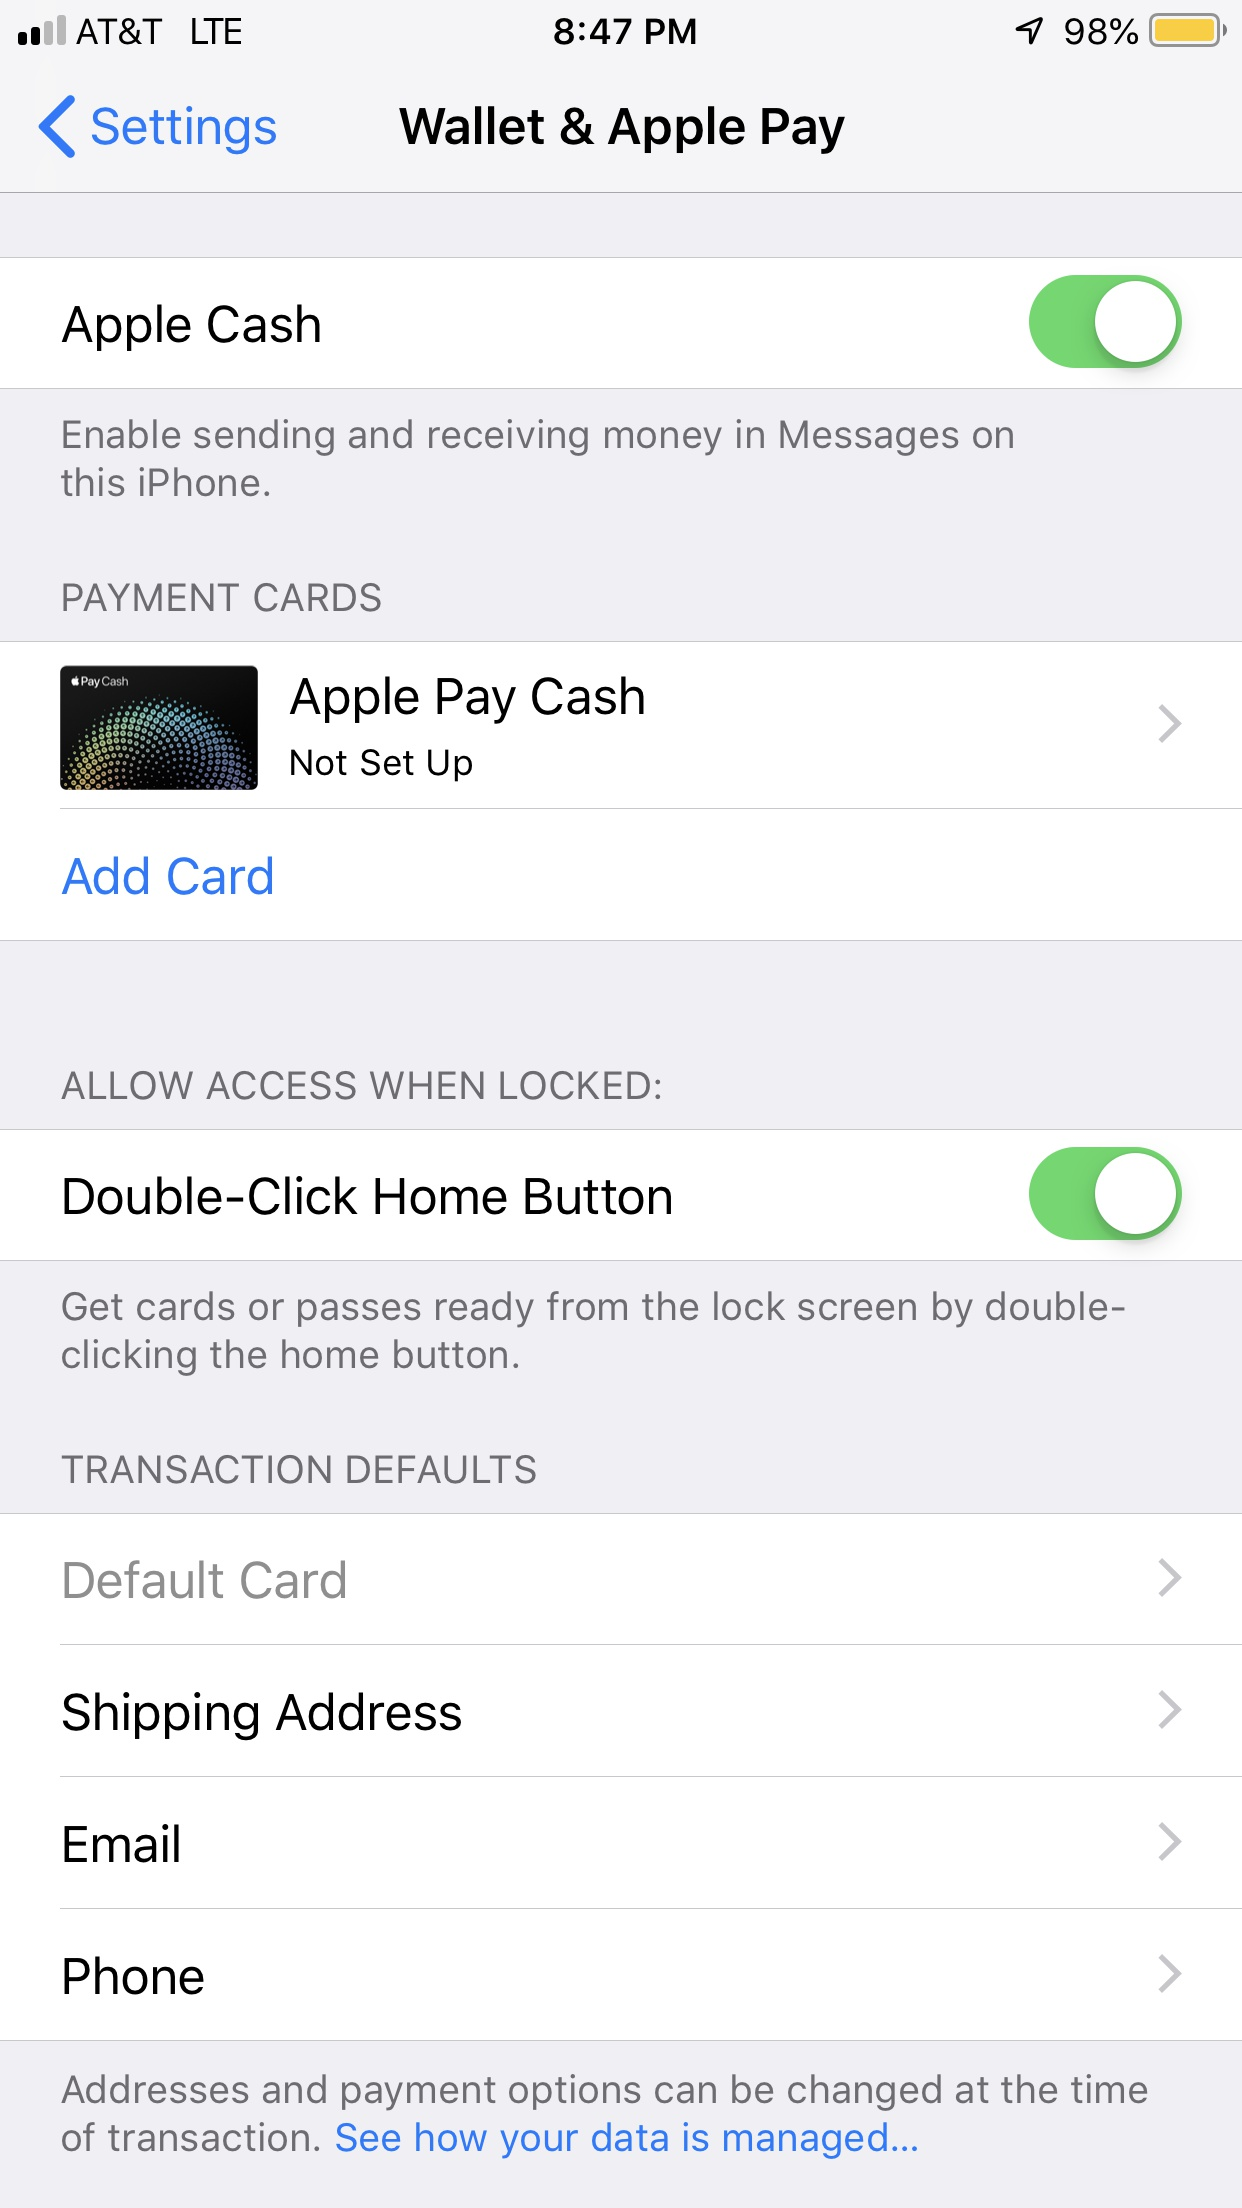Icon: (39, 96, 77, 161), (1159, 704, 1183, 745), (1159, 1557, 1183, 1598), (1159, 1689, 1183, 1730), (1159, 1821, 1183, 1862), (1159, 1953, 1183, 1993)
Image: (61, 666, 259, 792)
Switch: (1028, 274, 1183, 370), (1030, 1146, 1183, 1240)
Text: (61, 2073, 1148, 2159), (62, 1291, 1127, 1378), (61, 419, 1015, 497), (64, 1175, 672, 1216), (399, 106, 846, 156), (64, 1691, 463, 1741), (62, 1071, 663, 1101), (290, 676, 646, 725), (61, 1454, 537, 1485), (62, 303, 321, 353), (64, 1559, 347, 1600), (64, 582, 382, 613), (93, 106, 278, 156), (62, 855, 274, 896), (291, 748, 473, 783), (64, 1955, 205, 1996), (65, 1823, 180, 1864)
UpperTaskBar: (2, 2, 1242, 49)
